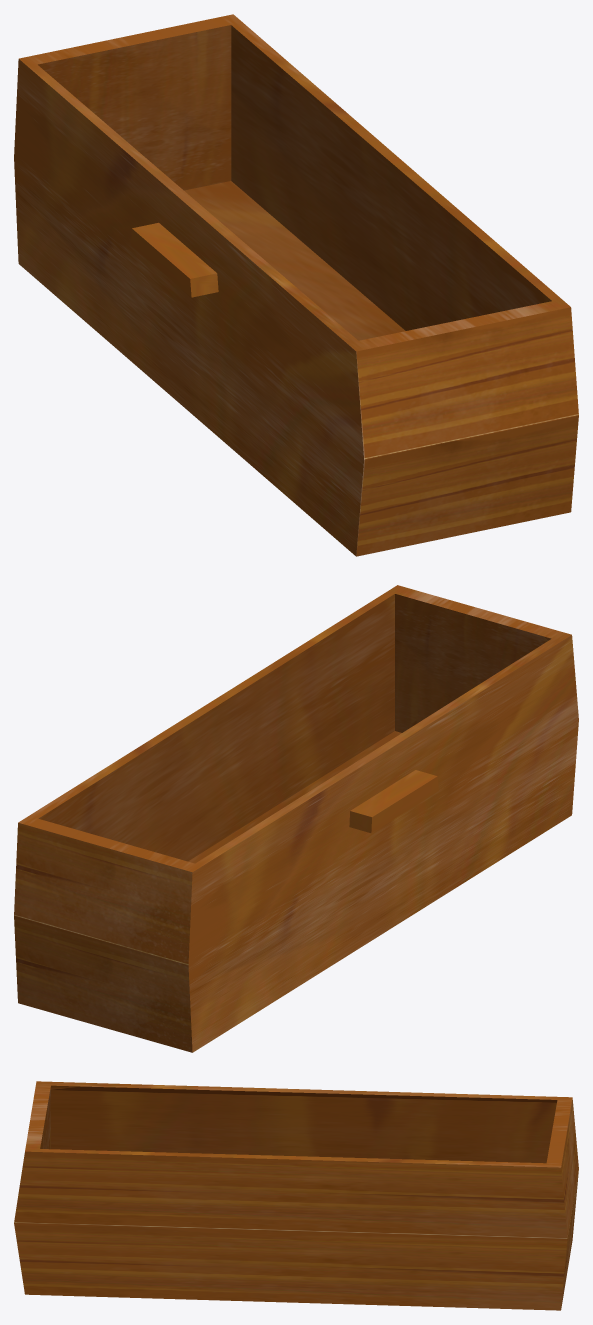
Rendered from EscritorioL_cajon2.glb.
3 renders of one model, top to bottom at view 1: azimuth 30°, elevation 25°; view 2: azimuth 150°, elevation 25°; view 3: azimuth 270°, elevation 25°, orthographic. The views are drawn at different scales.
Visible parts, largest first — view 1: E_escritorioL_cajon2; view 2: E_escritorioL_cajon2; view 3: E_escritorioL_cajon2.
Part boxes in pixels (box(x1,y1,x2,y2)): E_escritorioL_cajon2: box(14, 14, 578, 556); E_escritorioL_cajon2: box(14, 585, 578, 1052); E_escritorioL_cajon2: box(14, 1081, 578, 1310).
Size of the model in its own units: 1.59 by 1.2 by 4.3.
1 material, 1 textured.
